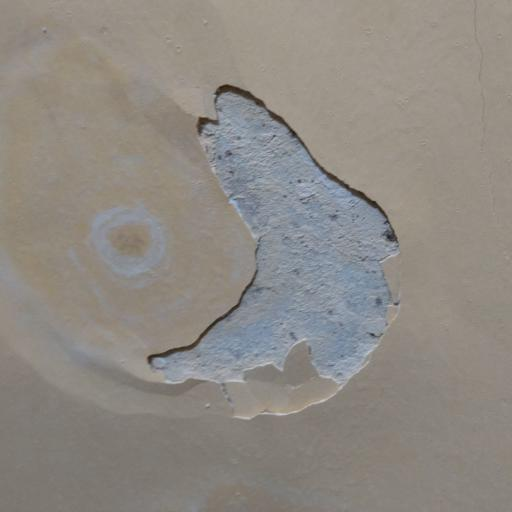peeling: (140, 57, 424, 431)
